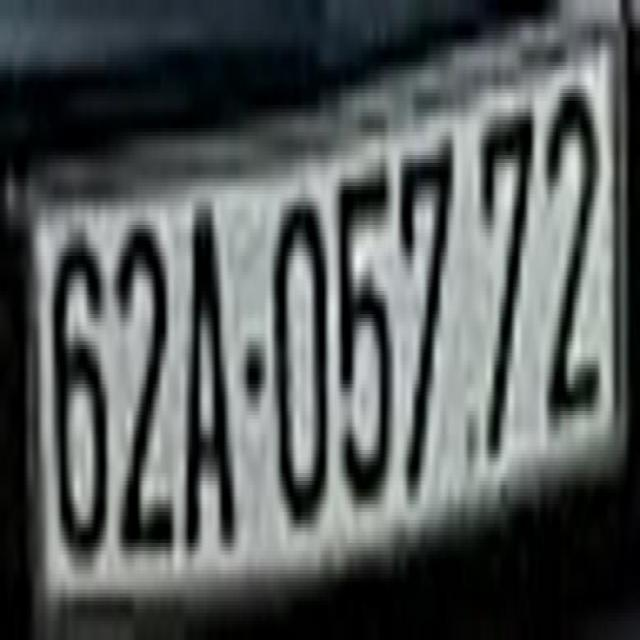0: (270, 183, 330, 532)
2: (546, 81, 605, 426), (114, 221, 174, 555)
5: (336, 163, 392, 496)
6: (51, 237, 110, 566)
7: (477, 105, 534, 465), (397, 143, 455, 481)
A: (187, 206, 237, 558)
